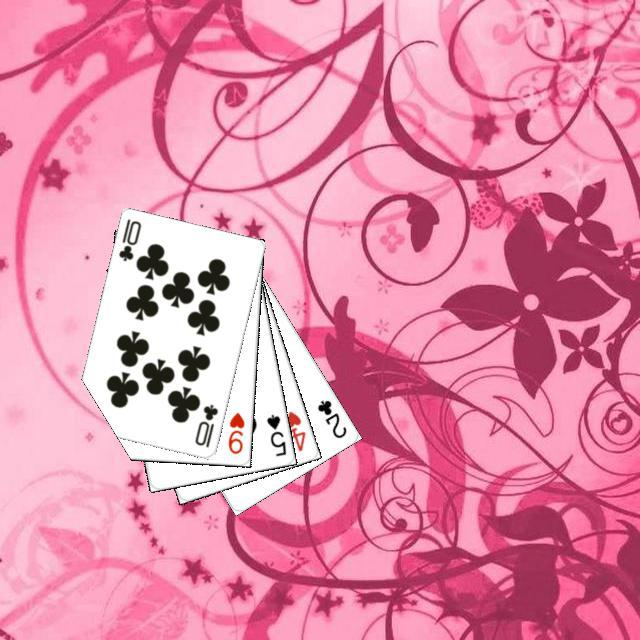10c: (190, 399, 220, 449), (114, 214, 143, 263)
2c: (312, 395, 348, 440)
4h: (281, 406, 307, 453)
5s: (262, 409, 288, 458)
9h: (223, 407, 246, 456)
